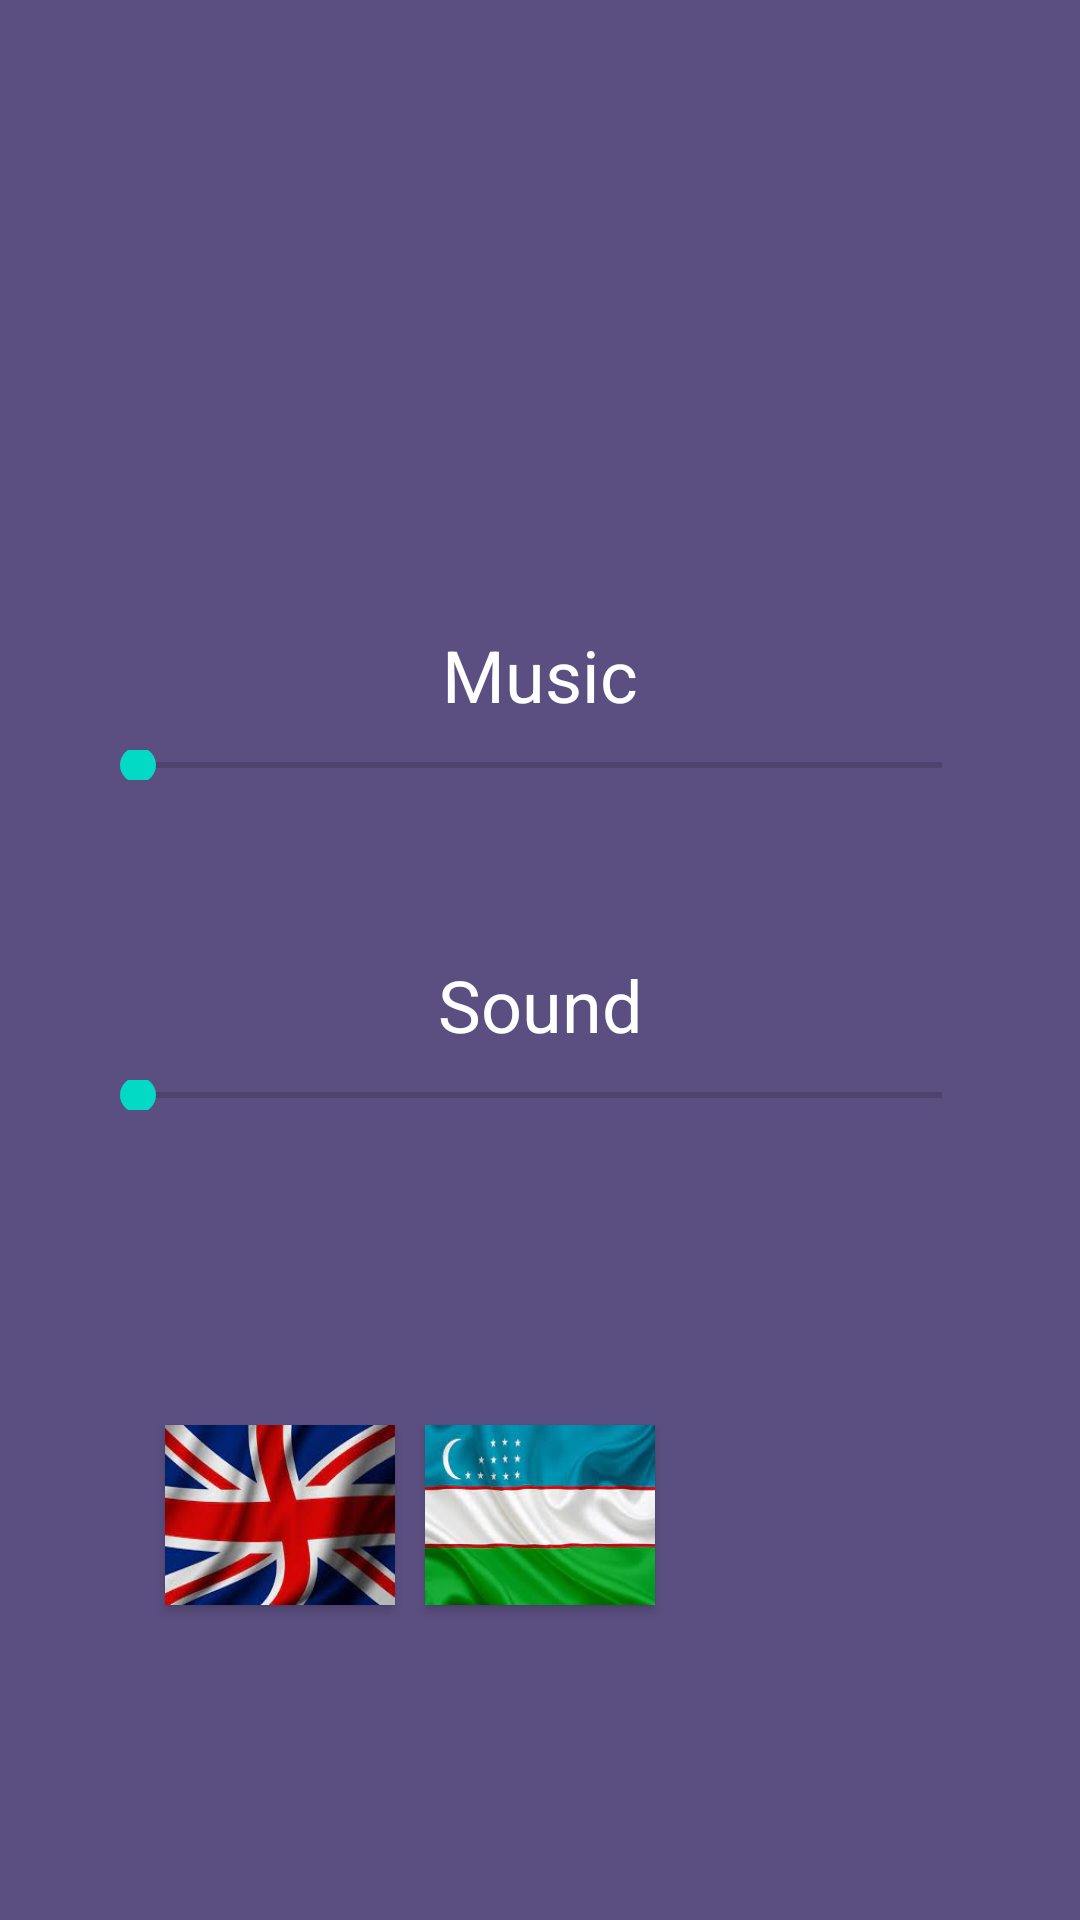

Locate icon controls on the screen. Image size 1080w x 1920h, boxes as {"left": x1, "top": y1, "right": x2, "bottom": y2}.
ang: {"left": 165, "top": 1425, "right": 395, "bottom": 1605}
uzb: {"left": 425, "top": 1425, "right": 655, "bottom": 1605}
